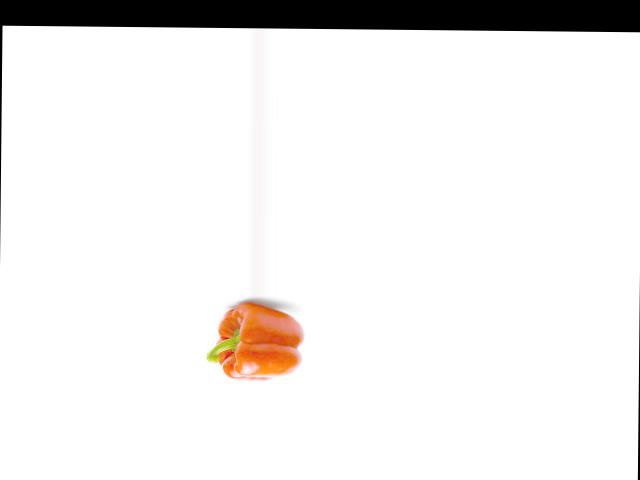bell_pepper: (200, 303, 312, 381)
